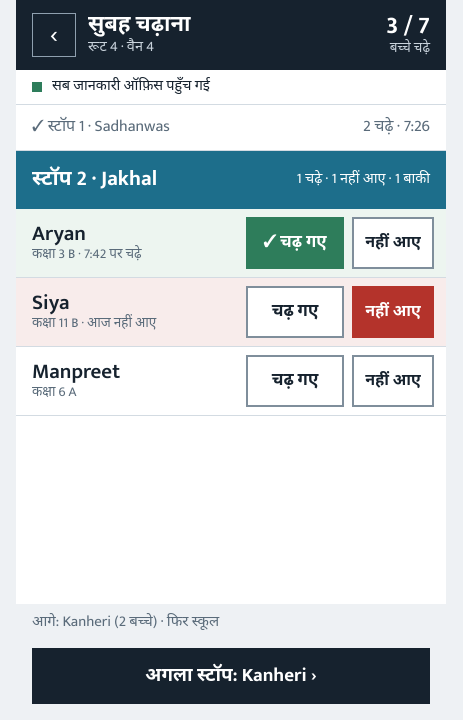
Test: Morning pickup (/trip/pickup) › a tap is saved on the phone first, then the row turns green and the count goes up
The width and height of the screenshot is (463, 720).
Step 1. Click the button "चढ़ गए" next to "Manpreet" → coordinates (295, 380), box left=246, top=354, right=344, bottom=406
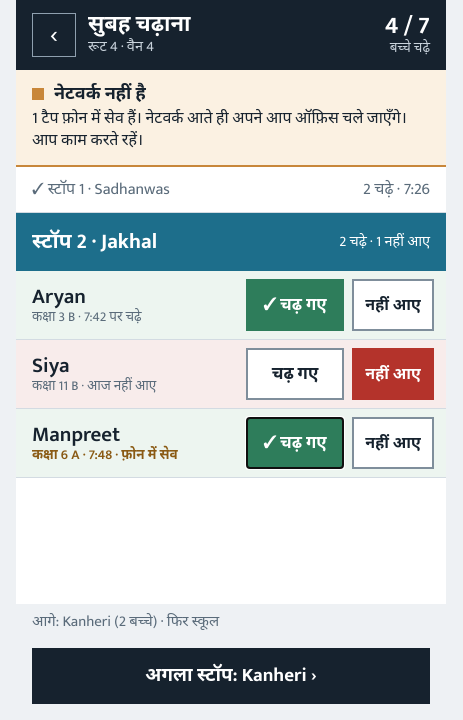
Expected: the text named "बच्चे चढ़े" reads "4 / 7", left=385, top=6, right=430, bottom=46
Expected: the text "2 चढ़े · 1 नहीं आए" is shown, left=339, top=233, right=430, bottom=252
Expected: the text "कक्षा 6 A · 7:48 · फ़ोन में सेव" is shown, left=32, top=444, right=178, bottom=466
